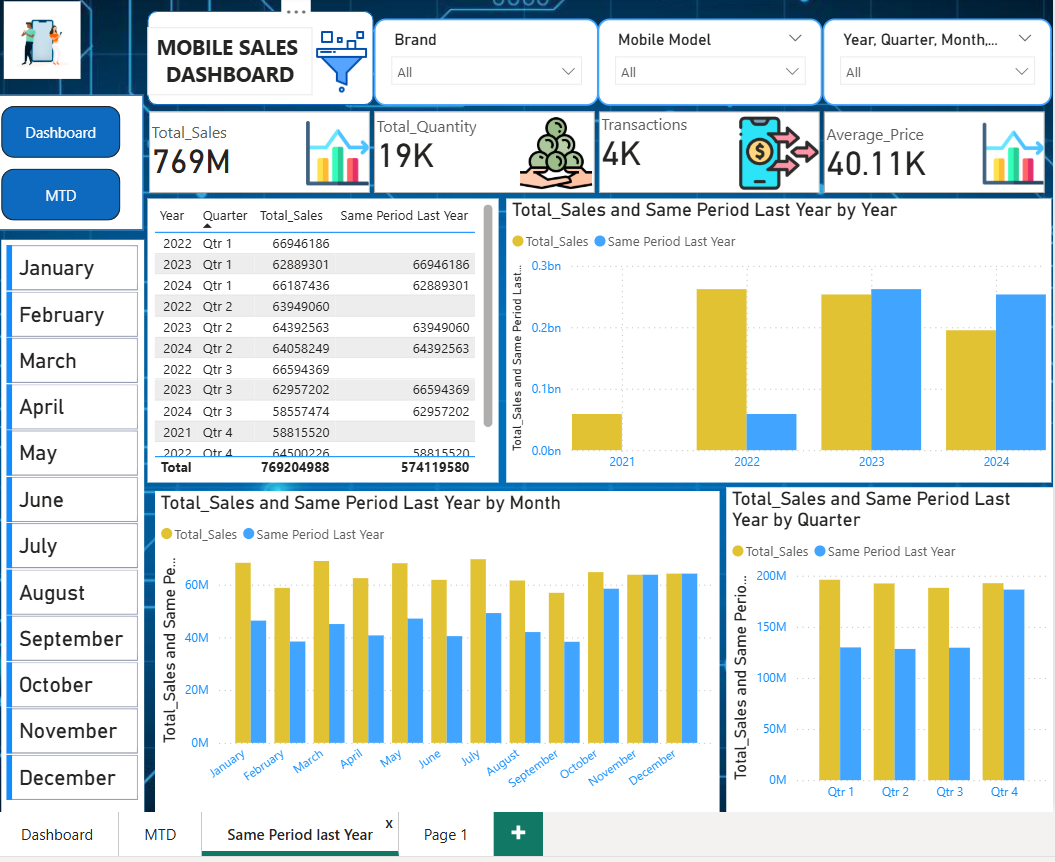

Layout of this report page (visuals, bound fields, positions):
{"tool":"powerbi","page":{"name":"Same Period last Year","canvas":[960,740],"ordinal":2},"visuals":[{"type":"shape","box":[137.8,13.9,205.1,85.5],"z":0},{"type":"image","box":[0,0,85.5,80.1],"z":1000},{"type":"cardVisual","fields":{"Data":["Sales_Data.Total_Sales","Sales_Data.Total_Quantity","Sales_Data.Transactions","Sales_Data.Average_Price"]},"box":[134.6,99.3,824.6,84.4],"z":2000},{"type":"slicer","fields":{"Values":["Sales_Data.Mobile Model"]},"box":[546.9,20.3,204,79],"z":3000},{"type":"slicer","fields":{"Values":["Sales_Data.Brand"]},"box":[343.9,20.3,204,79],"z":4000},{"type":"slicer","fields":{"Values":["Custom_Calendar.Date.Variation.Date Hierarchy.Year","Custom_Calendar.Date.Variation.Date Hierarchy.Quarter","Custom_Calendar.Date.Variation.Date Hierarchy.Month","Custom_Calendar.Date.Variation.Date Hierarchy.Day"]},"box":[750.9,20.3,208.3,79],"z":5000},{"type":"image","box":[273.4,25.6,82.2,67.3],"z":6000},{"type":"textbox","box":[138.9,28.8,149.5,60.9],"z":7000},{"type":"advancedSlicerVisual","fields":{"Values":["Custom_Calendar.Date.Variation.Date Hierarchy.Month"]},"box":[5.3,221.1,129.2,519.1],"z":8000},{"type":"tableEx","fields":{"Values":["Custom_Calendar.Date.Variation.Date Hierarchy.Year","Custom_Calendar.Date.Variation.Date Hierarchy.Quarter","Sales_Data.Total_Sales","Sales_Data.Same Period Last Year"]},"box":[138.9,183.7,318.3,257.4],"z":9000},{"type":"clusteredColumnChart","fields":{"Category":["Custom_Calendar.Date.Variation.Date Hierarchy.Year","Custom_Calendar.Date.Variation.Date Hierarchy.Quarter"],"Y":["Sales_Data.Total_Sales","Sales_Data.Same Period Last Year"]},"box":[463.6,183.7,494.5,257.4],"z":10000},{"type":"clusteredColumnChart","fields":{"Y":["Sales_Data.Total_Sales","Sales_Data.Same Period Last Year"],"Category":["Custom_Calendar.Date.Variation.Date Hierarchy.Month"]},"box":[145.3,448.6,511.6,291.6],"z":11000},{"type":"clusteredColumnChart","fields":{"Category":["Custom_Calendar.Date.Variation.Date Hierarchy.Quarter"],"Y":["Sales_Data.Total_Sales","Sales_Data.Same Period Last Year"]},"box":[663.3,445.4,296.9,294.8],"z":12000},{"type":"shape","box":[0,89.7,134.6,122.8],"z":12500},{"type":"pageNavigator","box":[5.3,99.3,108.9,104.7],"z":13000}]}

Visuals, with their boxes on the page's 960x740 design canvas (x1, y1, x2, y2). These are canvas units, not pixel positions in the 1055x862 screenshot, which may show the page scaled, cropped or inside an application window:
shape: box(138, 14, 343, 99)
image: box(0, 0, 86, 80)
cardVisual - Sales_Data.Total_Sales x Sales_Data.Total_Quantity: box(135, 99, 959, 184)
slicer - Sales_Data.Mobile Model: box(547, 20, 751, 99)
slicer - Sales_Data.Brand: box(344, 20, 548, 99)
slicer - Custom_Calendar.Date.Variation.Date Hierarchy.Year x Custom_Calendar.Date.Variation.Date Hierarchy.Quarter: box(751, 20, 959, 99)
image: box(273, 26, 356, 93)
textbox: box(139, 29, 288, 90)
advancedSlicerVisual - Custom_Calendar.Date.Variation.Date Hierarchy.Month: box(5, 221, 134, 740)
tableEx - Custom_Calendar.Date.Variation.Date Hierarchy.Year x Custom_Calendar.Date.Variation.Date Hierarchy.Quarter: box(139, 184, 457, 441)
clusteredColumnChart - Custom_Calendar.Date.Variation.Date Hierarchy.Year x Custom_Calendar.Date.Variation.Date Hierarchy.Quarter: box(464, 184, 958, 441)
clusteredColumnChart - Sales_Data.Total_Sales x Sales_Data.Same Period Last Year: box(145, 449, 657, 740)
clusteredColumnChart - Custom_Calendar.Date.Variation.Date Hierarchy.Quarter x Sales_Data.Total_Sales: box(663, 445, 960, 740)
shape: box(0, 90, 135, 212)
pageNavigator: box(5, 99, 114, 204)
